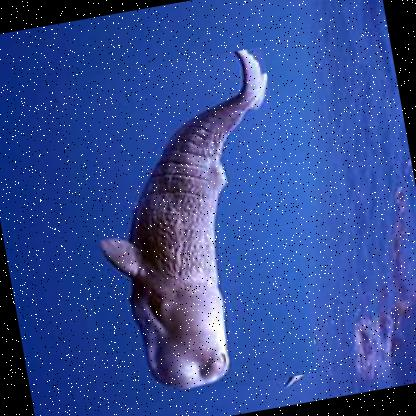sperm_whale: (52, 45, 318, 408)
